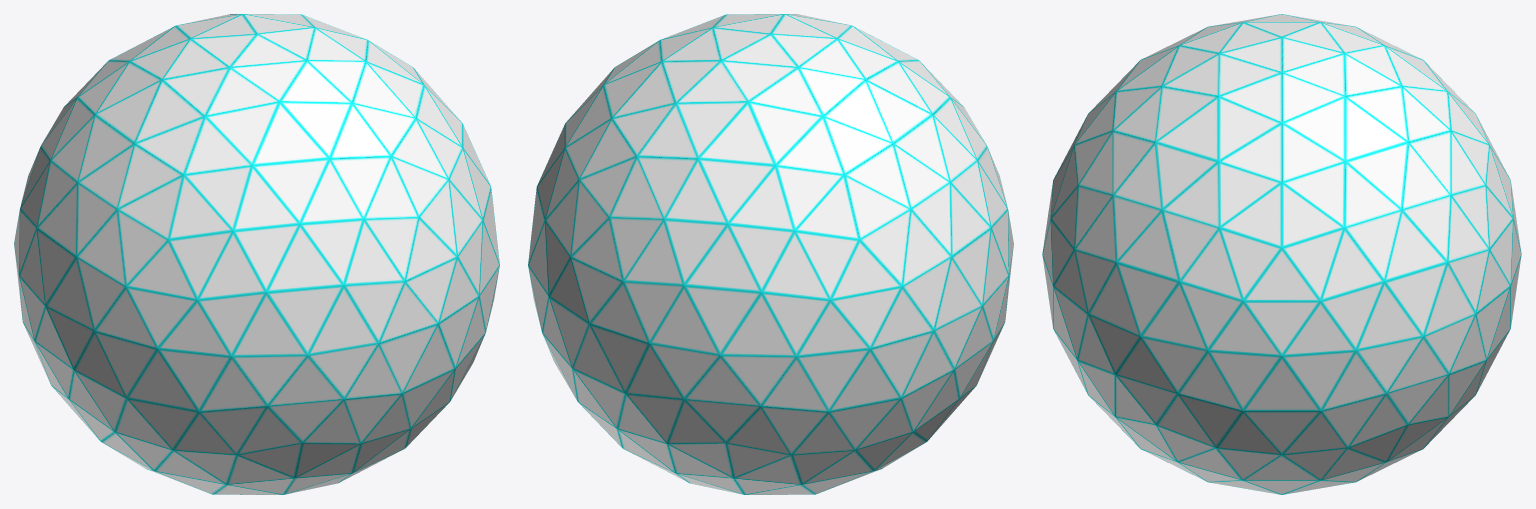
The model's file is InvertedCrystalSphere.fbx.
The picture shows the model from 3 angles, left to right: view 1: azimuth 30°, elevation 25°; view 2: azimuth 150°, elevation 25°; view 3: azimuth 270°, elevation 25°; orthographic projection.
Visible parts, largest first — view 1: InvertedSphere; view 2: InvertedSphere; view 3: InvertedSphere.
Boxes of the visible parts, x1=… form: InvertedSphere: x1=14, y1=14, x2=499, y2=494; InvertedSphere: x1=528, y1=14, x2=1013, y2=494; InvertedSphere: x1=1042, y1=14, x2=1521, y2=494.
Size of the model in its own units: 4.02 by 4 by 4.
